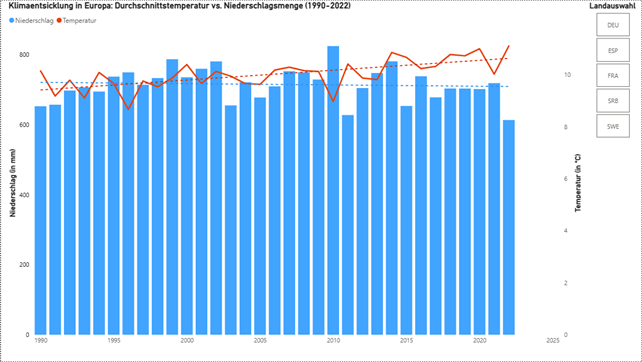

This screenshot's page, from the dashboard's own definition file:
{"tool":"powerbi","page":{"name":"Seite 1","canvas":[1280,720],"ordinal":0},"visuals":[{"type":"lineClusteredColumnComboChart","title":"Klimaentsicklung in Europa: Durchschnittstemperatur vs. Niederschlagsmenge (1990-2022)","fields":{"Category":["klima_daten_clean.year"],"Y":["Avg(klima_daten_clean.pr)"],"Y2":["Avg(klima_daten_clean.tas)"]},"box":[10,0,1154.4,710],"z":0},{"type":"slicer","title":"Landauswahl","fields":{"Values":["klima_daten_clean.country"]},"box":[1164.4,0,115.6,280],"z":1}]}

Visuals, with their boxes in screenshot pixels (x1, y1, x2, y2), scaled from the page's 1280x720 canvas onto the 642x362 screenshot:
"Klimaentsicklung in Europa: Durchschnittstemperatur vs. Niederschlagsmenge (1990-2022)" lineClusteredColumnComboChart: bbox=[5, 0, 584, 357]
"Landauswahl" slicer: bbox=[584, 0, 641, 141]
